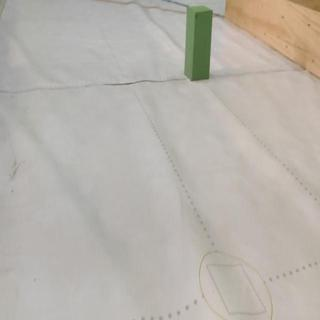greenbox: (183, 3, 213, 82)
